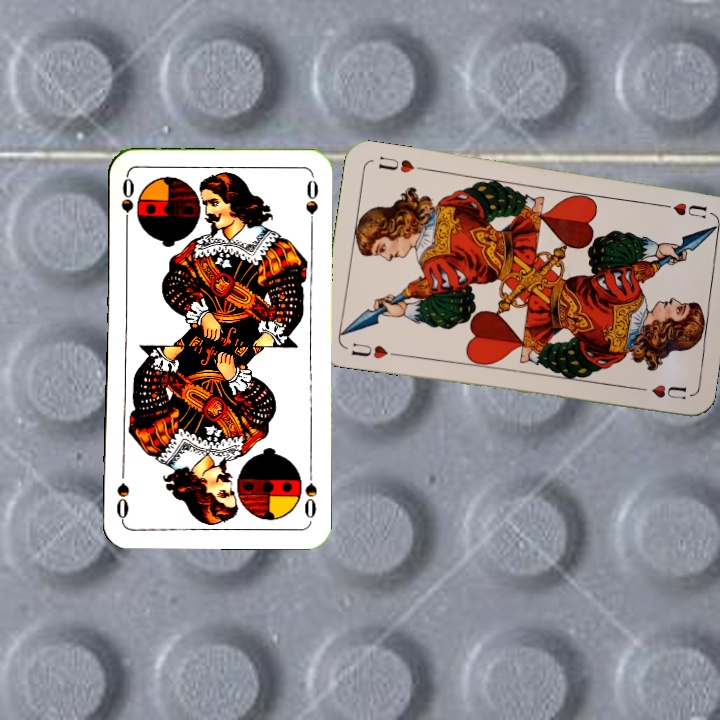HU: (347, 339, 402, 362), (669, 198, 710, 222)
SO: (117, 173, 137, 232), (300, 464, 320, 521)
